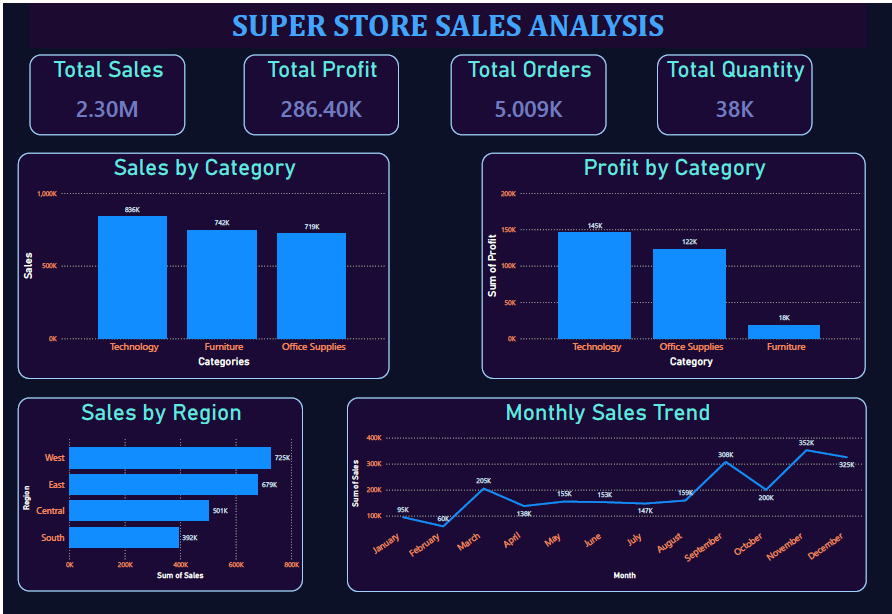

This screenshot's page, from the dashboard's own definition file:
{"tool":"powerbi","page":{"name":"Executive Dashboard","canvas":[1600,1100],"ordinal":0},"visuals":[{"type":"cardVisual","title":"Total Sales","fields":{"Data":["Sum(cleaned_Superstore_data.Sales)"]},"box":[46.9,91.8,280.8,146.2],"z":0},{"type":"cardVisual","title":"Total Orders","fields":{"Data":["Count(cleaned_Superstore_data.Order ID)"]},"box":[806.1,91.8,280.8,146.2],"z":1000},{"type":"cardVisual","title":"Total Profit","fields":{"Data":["Sum(cleaned_Superstore_data.Profit)"]},"box":[432.7,91.8,280.8,146.2],"z":2000},{"type":"cardVisual","title":"Total Quantity","fields":{"Data":["Sum(cleaned_Superstore_data.Quantity)"]},"box":[1177.6,91.8,280.8,146.2],"z":3000},{"type":"textbox","box":[47.6,0,1507.1,78.6],"z":4000},{"type":"clusteredColumnChart","title":"Sales by Category","fields":{"Category":["cleaned_Superstore_data.Category"],"Y":["Sum(cleaned_Superstore_data.Sales)"]},"box":[26.2,269,669.4,408.2],"z":5000},{"type":"clusteredColumnChart","title":"Profit by Category","fields":{"Category":["cleaned_Superstore_data.Category"],"Y":["Sum(cleaned_Superstore_data.Profit)"]},"box":[861.9,269,691.8,408.2],"z":6000},{"type":"clusteredBarChart","title":"Sales by Region","fields":{"Category":["cleaned_Superstore_data.Region"],"Y":["Sum(cleaned_Superstore_data.Sales)"]},"box":[26.2,709.5,514,350],"z":7000},{"type":"lineChart","title":"Monthly Sales Trend","fields":{"Category":["cleaned_Superstore_data.Order Date.Variation.Date Hierarchy.Month"],"Y":["Sum(cleaned_Superstore_data.Sales)"]},"box":[619,709.5,936.7,351],"z":8000}]}

Visuals, with their boxes in screenshot pixels (x1, y1, x2, y2), scaled from the page's 1600x1100 canvas onto the 892x614 screenshot:
"Total Sales" cardVisual: l=26, t=51, r=183, b=133
"Total Orders" cardVisual: l=449, t=51, r=606, b=133
"Total Profit" cardVisual: l=241, t=51, r=398, b=133
"Total Quantity" cardVisual: l=657, t=51, r=813, b=133
textbox: l=27, t=0, r=867, b=44
"Sales by Category" clusteredColumnChart: l=15, t=150, r=388, b=378
"Profit by Category" clusteredColumnChart: l=481, t=150, r=866, b=378
"Sales by Region" clusteredBarChart: l=15, t=396, r=301, b=591
"Monthly Sales Trend" lineChart: l=345, t=396, r=867, b=592
